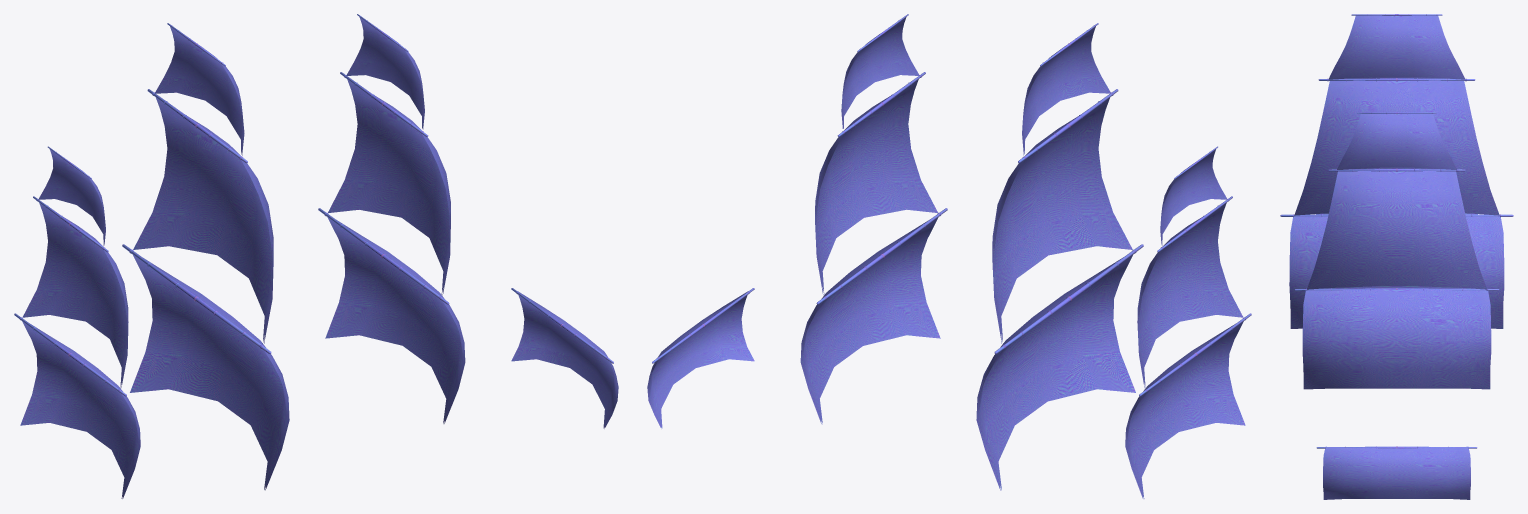
Rendered from statek_lod_zagle_lvl_03.fbx.
The picture shows the model from 3 angles, left to right: view 1: azimuth 30°, elevation 25°; view 2: azimuth 150°, elevation 25°; view 3: azimuth 270°, elevation 25°; orthographic projection. The views are drawn at different scales.
Visible parts, largest first — view 1: statek_lod_zagle_lvl_03; view 2: statek_lod_zagle_lvl_03; view 3: statek_lod_zagle_lvl_03.
Part boxes in pixels (x1,y1,x2,y2): statek_lod_zagle_lvl_03: (14,14,618,498); statek_lod_zagle_lvl_03: (647,14,1251,498); statek_lod_zagle_lvl_03: (1280,14,1513,499).
Bounding box in the file's own units: 6829 × 5553 × 3387.
1 material, 1 textured.
